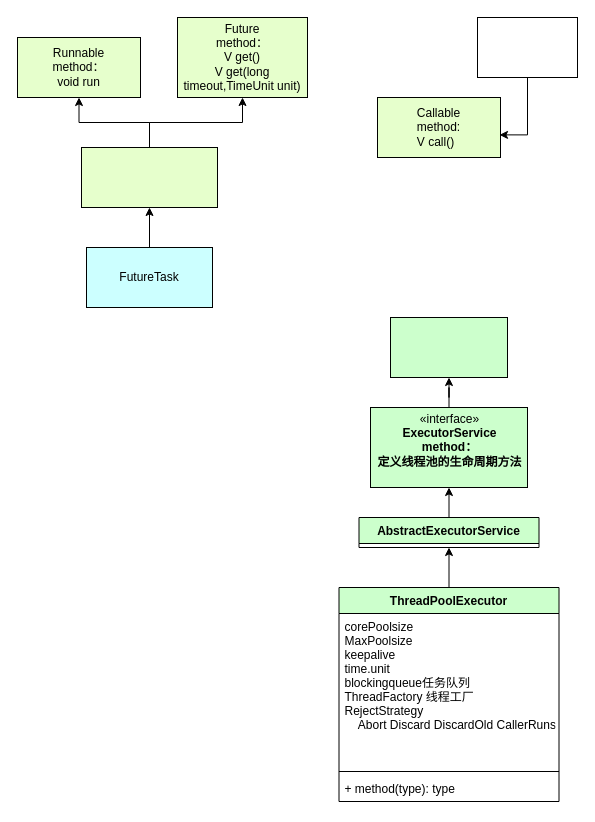
The diagram is 595 pixels wide and 822 high, and some of its shapes have lost their labels. Each missing label, with the centre of its shape:
RunnableFuture method: void run(): pixel 149 177
«interface» Executor method: execute: pixel 449 347
相当于runnable+return: pixel 527 47
